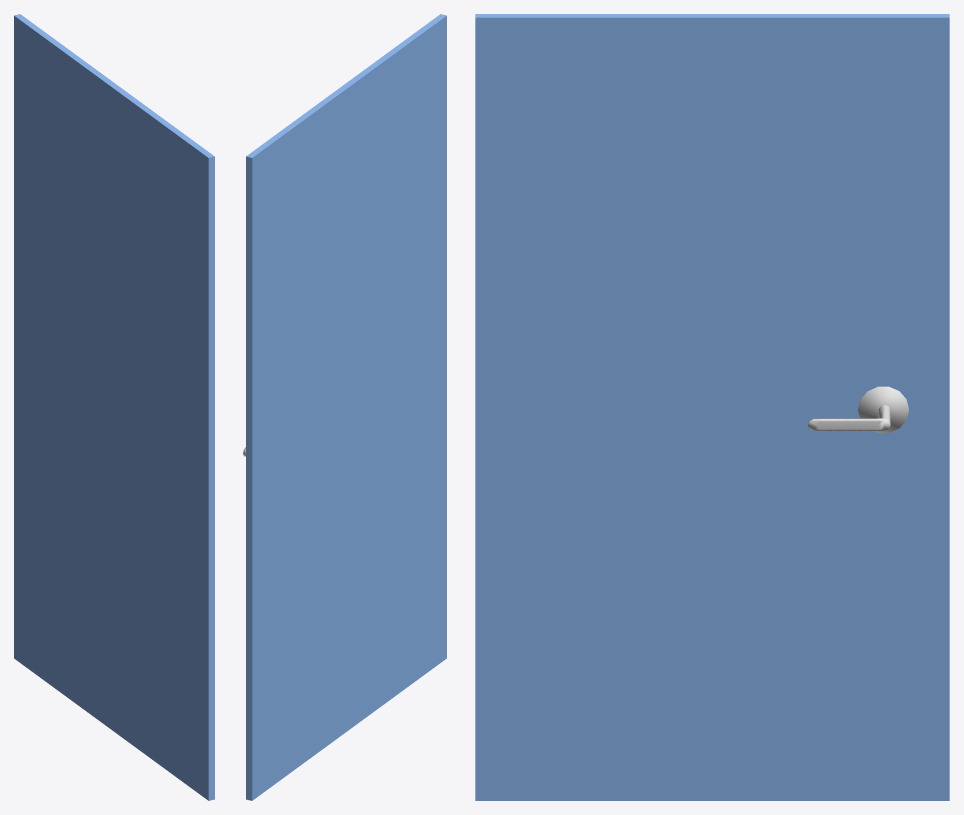
Rendered from Door.fbx.
The picture shows the model from 3 angles, left to right: view 1: azimuth 30°, elevation 25°; view 2: azimuth 150°, elevation 25°; view 3: azimuth 270°, elevation 25°; orthographic projection. The views are drawn at different scales.
Parts seen in each view (by area): view 1: Cube; view 2: Cube; view 3: Cube, Cylinder, Cylinder.001.
Part boxes in pixels (x1,y1,x2,y2): Cube: (14,14,214,800); Cube: (246,14,446,800); Cube: (475,14,949,800); Cylinder: (858,386,908,432); Cylinder.001: (807,405,890,430).
Bounding box in the file's own units: 47.11 × 854 × 469.
